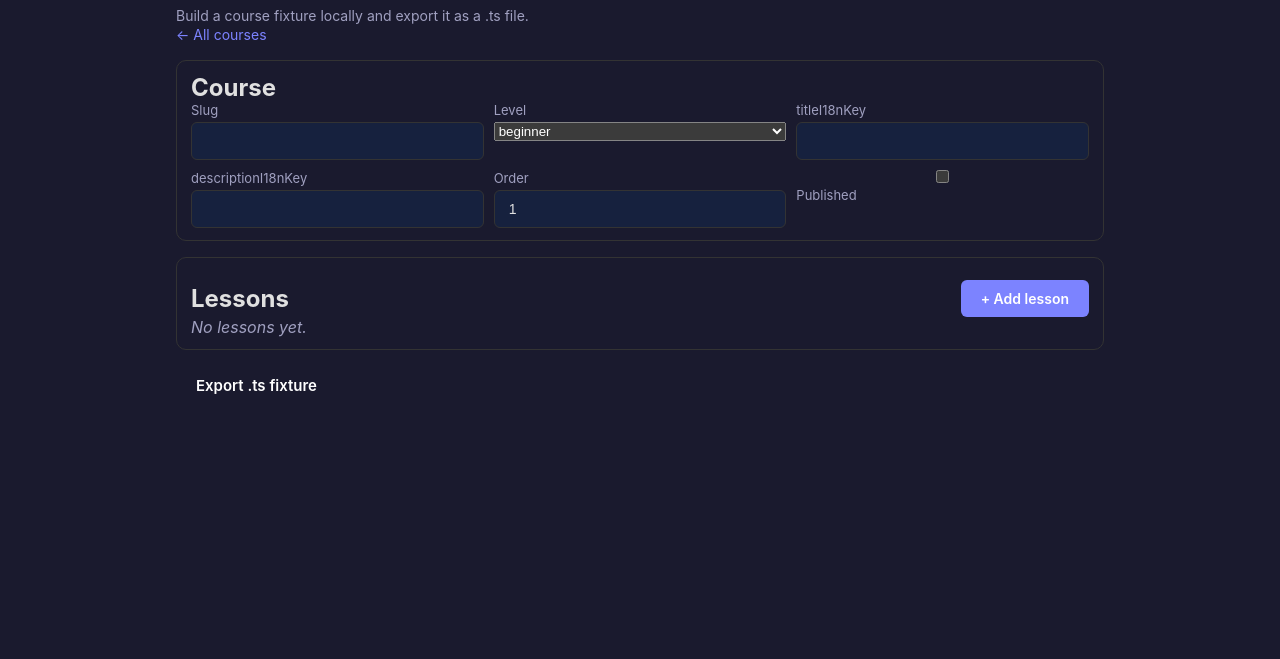
Test: <LessonEditorPage> › смена типа шага на puzzle → рендерятся puzzle-поля
The image size is (1280, 659).
Step 1. Click the button with test id "editor-add-lesson" → (1025, 298), box x1=961 y1=280 x2=1089 y2=317
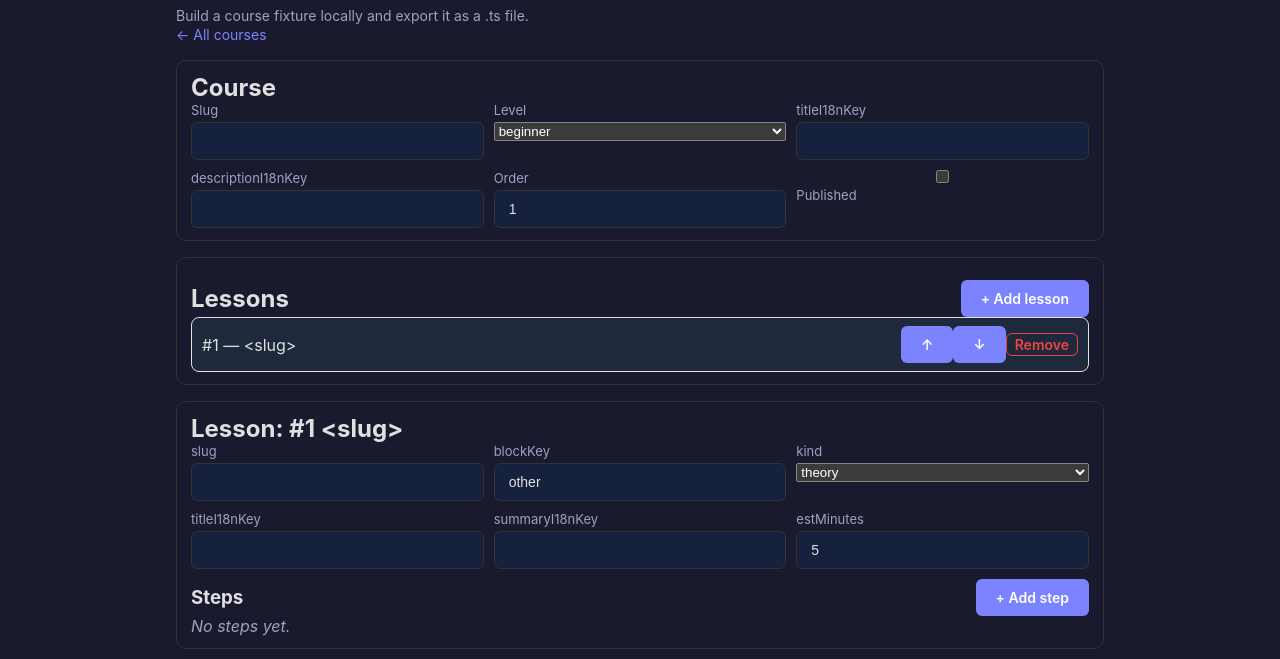
Step 2. Click the button with test id "editor-add-step" → (1032, 598), box x1=976 y1=579 x2=1089 y2=616
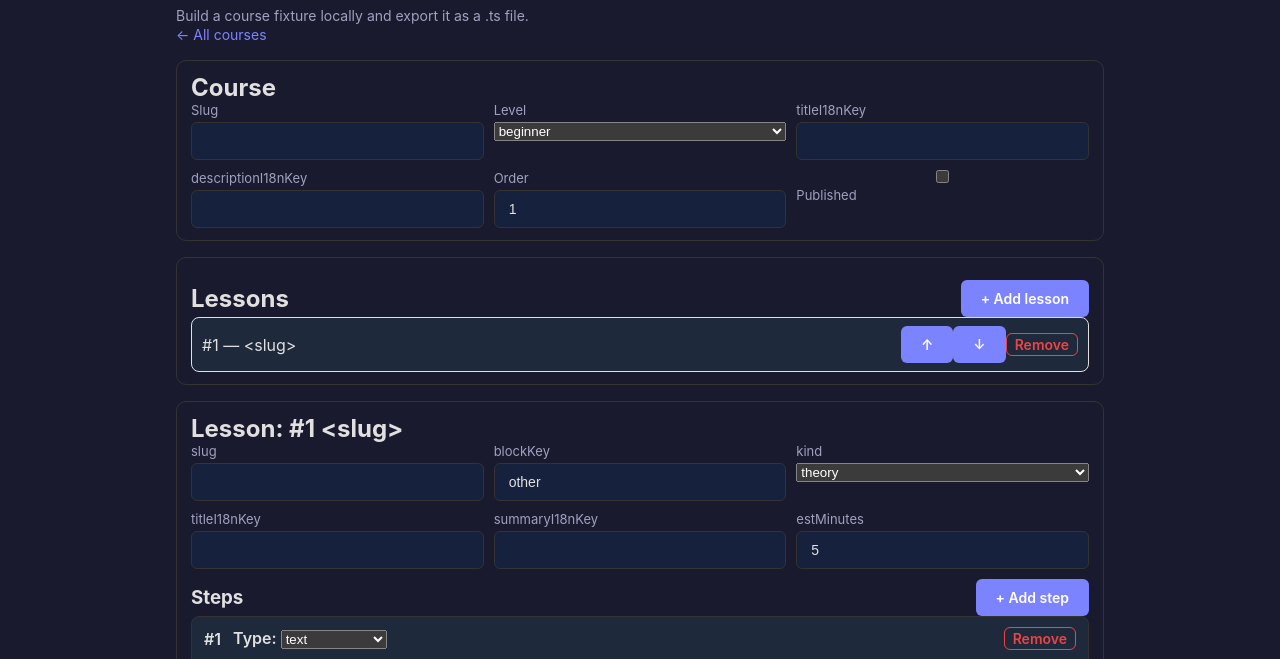
Result: the dropdown with test id "editor-step-type-" is shown
Step 3. Select "puzzle" in the dropdown with test id "editor-step-type-" → (334, 640), box x1=281 y1=630 x2=387 y2=649
(page scrolled)
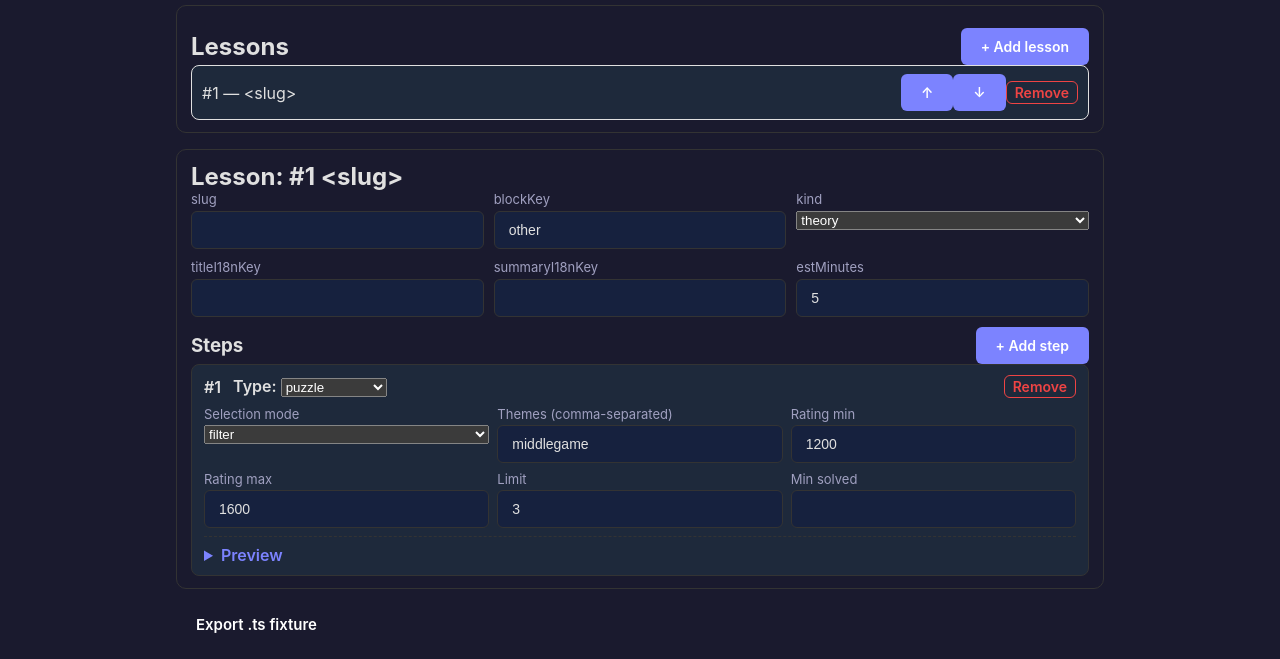
Result: the dropdown with test id "editor-step-puzzle-mode" is shown at x1=204 y1=425 x2=489 y2=444
Result: the field with test id "editor-step-puzzle-themes" is shown at x1=497 y1=425 x2=783 y2=463
